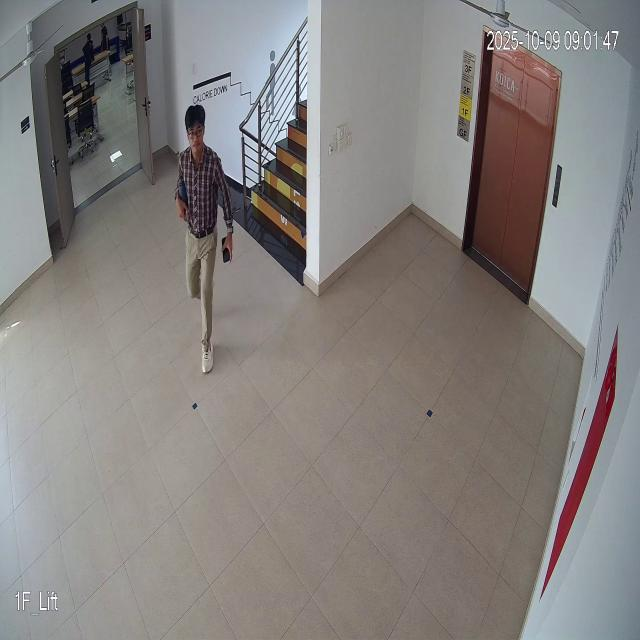face: (181, 102, 213, 165)
